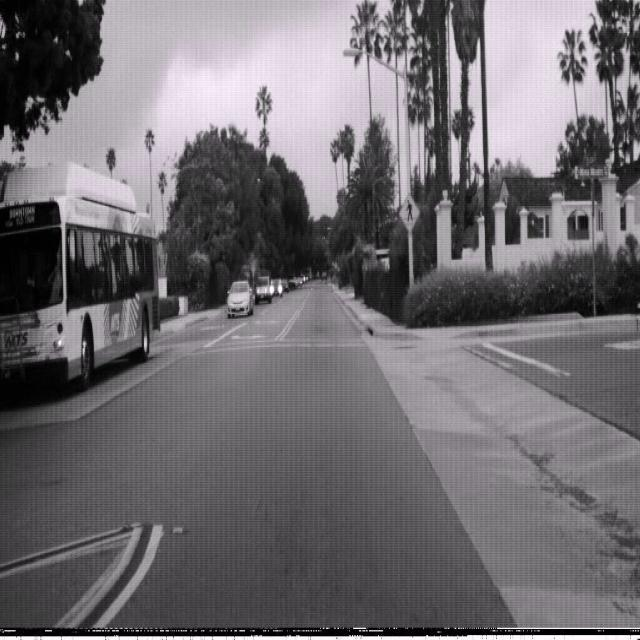pedestrianCrossing: (398, 190, 420, 233)
